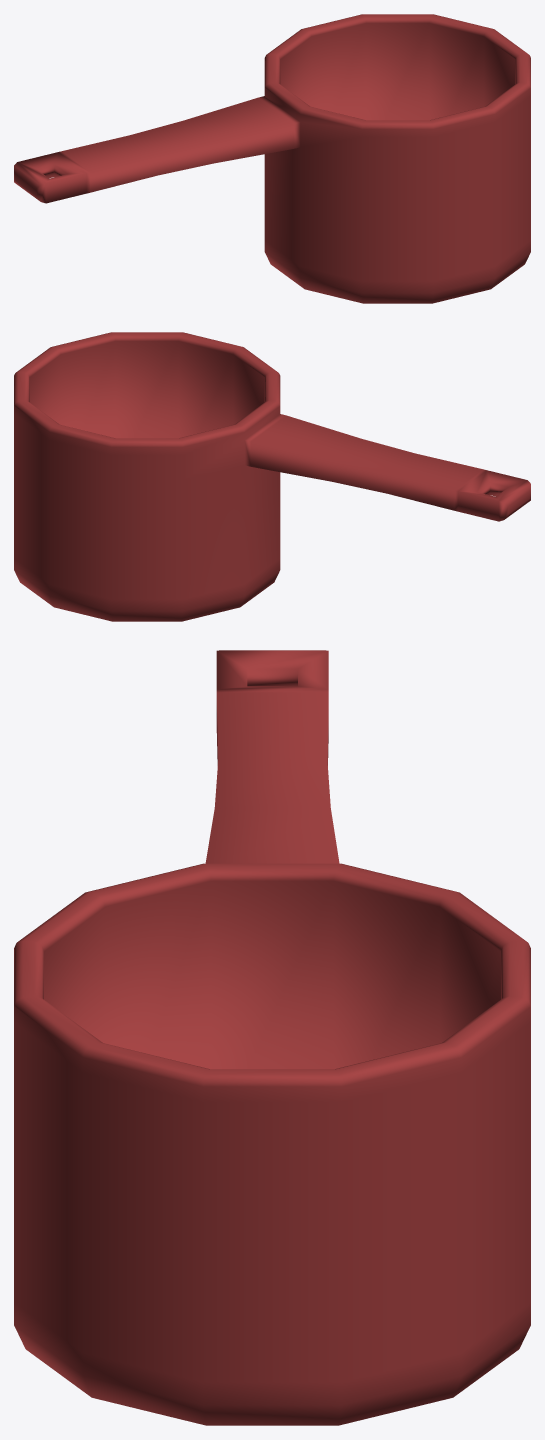
The model's file is tabo.fbx.
3 views of the same model, one above another, from view 1: azimuth 30°, elevation 25°; view 2: azimuth 150°, elevation 25°; view 3: azimuth 270°, elevation 25° (orthographic). The views are drawn at different scales.
Parts seen in each view (by area): view 1: pCylinder1; view 2: pCylinder1; view 3: pCylinder1.
Boxes of the visible parts, bbox=[...] form: pCylinder1: bbox=[14, 14, 530, 303]; pCylinder1: bbox=[14, 332, 530, 621]; pCylinder1: bbox=[14, 650, 530, 1425].
Bounding box in the file's own units: 4.08 × 1.5 × 1.93.
